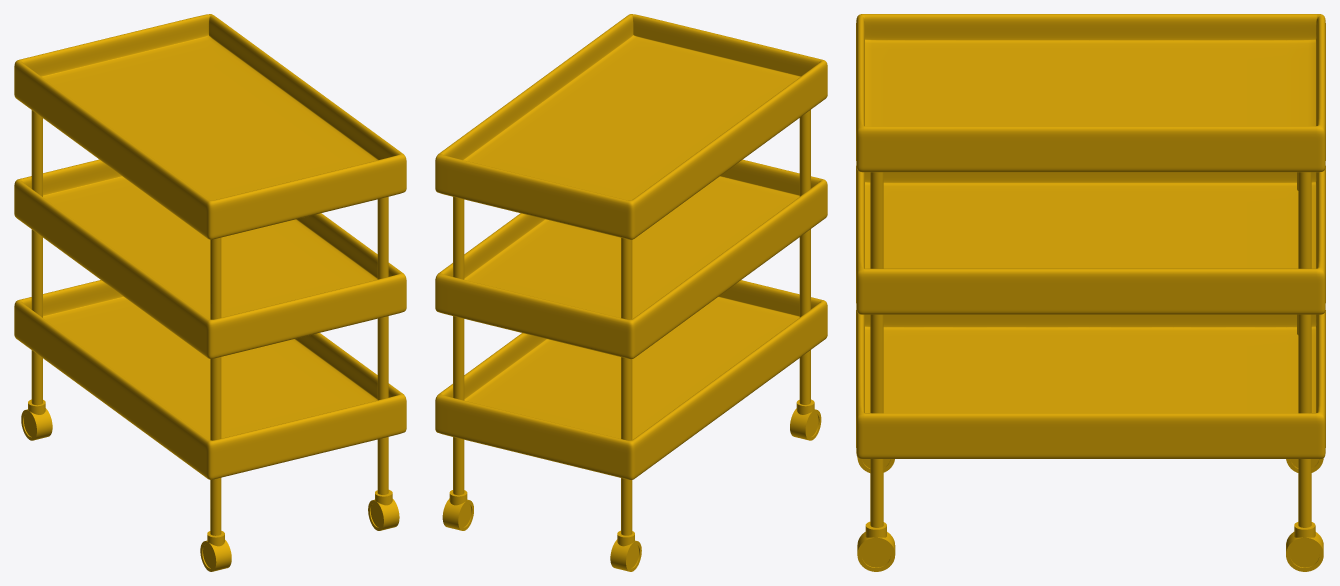
The model's file is Trolley.glb.
3 renders of one model, left to right at view 1: azimuth 30°, elevation 25°; view 2: azimuth 150°, elevation 25°; view 3: azimuth 270°, elevation 25°, orthographic. The views are drawn at different scales.
Visible parts, largest first — view 1: pCube29, pCube32, pCube30, pCylinder3, pCylinder2, pCylinder4, pCylinder8 (×3); view 2: pCube29, pCube32, pCube30, pCylinder1, pCylinder4, pCylinder3, pCylinder8 (×3); view 3: pCube29, pCube32, pCube30, pCylinder2, pCylinder1, pCylinder8 (×2).
Boxes of the visible parts, left/top/right/bottom form: pCube29: left=14, top=14, right=406, bottom=239; pCube32: left=14, top=280, right=406, bottom=479; pCube30: left=14, top=159, right=406, bottom=358; pCylinder3: left=210, top=237, right=221, bottom=535; pCylinder2: left=377, top=197, right=388, bottom=494; pCylinder4: left=31, top=110, right=42, bottom=405; pCylinder8 (×3): left=21, top=408, right=399, bottom=571; pCube29: left=435, top=14, right=827, bottom=239; pCube32: left=435, top=280, right=827, bottom=480; pCube30: left=435, top=159, right=827, bottom=359; pCylinder1: left=453, top=197, right=464, bottom=495; pCylinder4: left=621, top=238, right=632, bottom=535; pCylinder3: left=799, top=110, right=810, bottom=404; pCylinder8 (×3): left=442, top=408, right=821, bottom=571; pCube29: left=856, top=14, right=1325, bottom=172; pCube32: left=856, top=309, right=1325, bottom=458; pCube30: left=856, top=166, right=1325, bottom=314; pCylinder2: left=870, top=172, right=883, bottom=527; pCylinder1: left=1298, top=172, right=1311, bottom=527; pCylinder8 (×2): left=857, top=532, right=1323, bottom=571.
Size of the model in its own units: 2.16 by 3.89 by 3.69.
